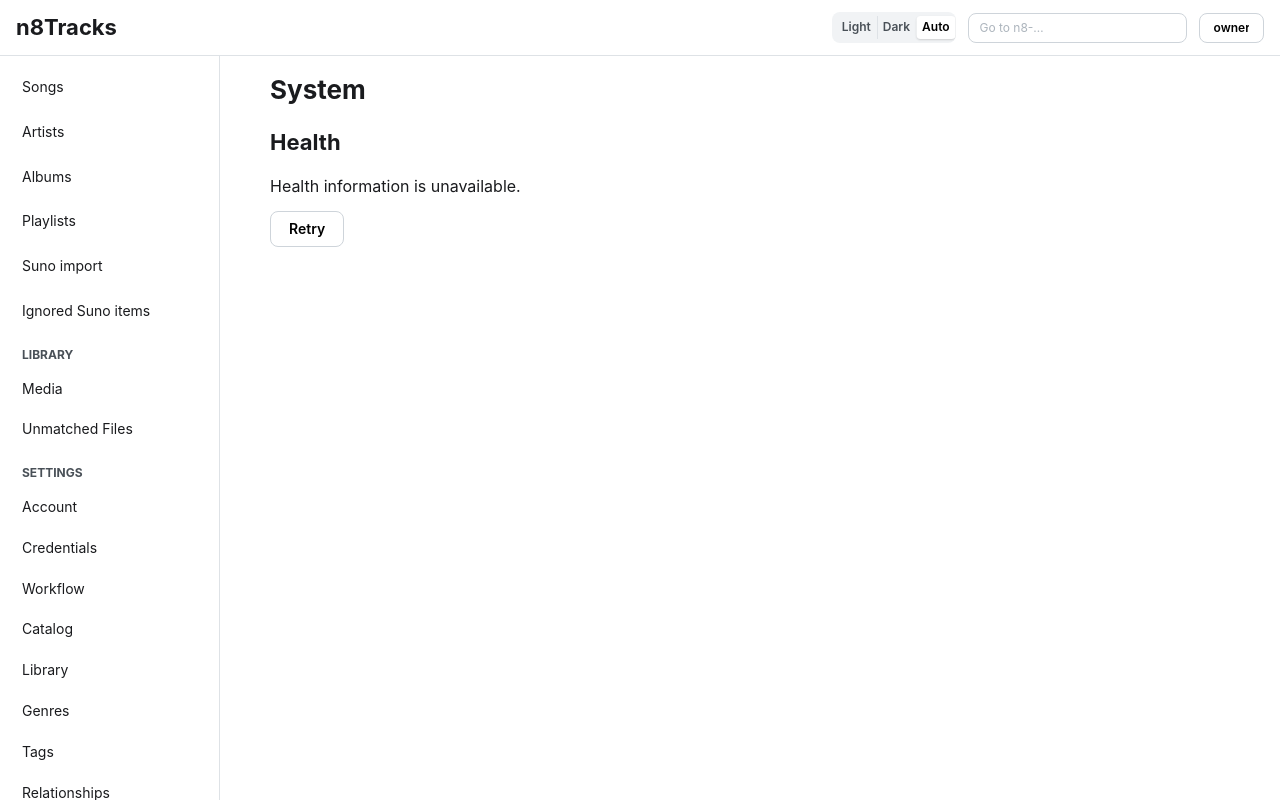
Test case: Settings → System › shows an error with Retry when the first load fails, and loads again on Retry
The width and height of the screenshot is (1280, 800).
Expected: the text "Health information is unavailable." is shown, [270,174,521,199]
Click the button "Retry": (307, 229) [270,211,344,247]
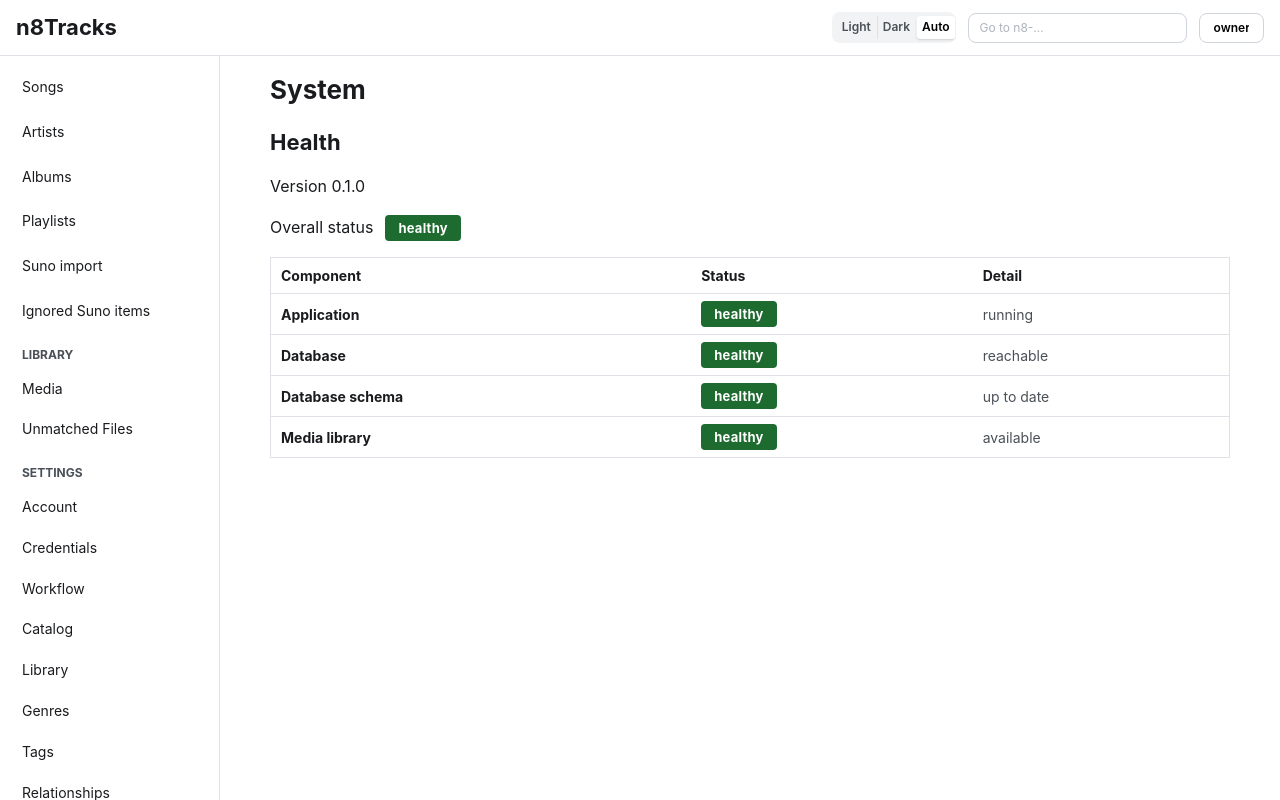
Expected: the text with test id "version" reads "0.1.0", [332,176,365,196]
Expected: the text "Health information is unavailable." is gone
